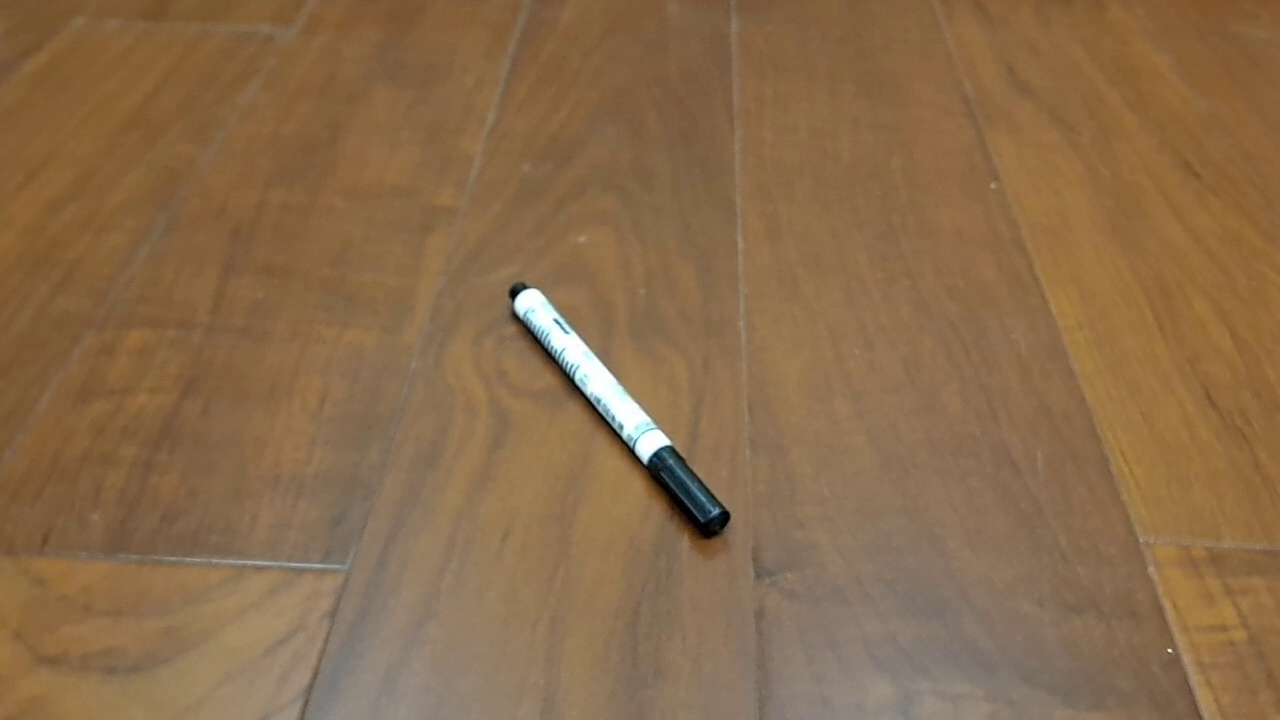pen: (508, 281, 731, 540)
